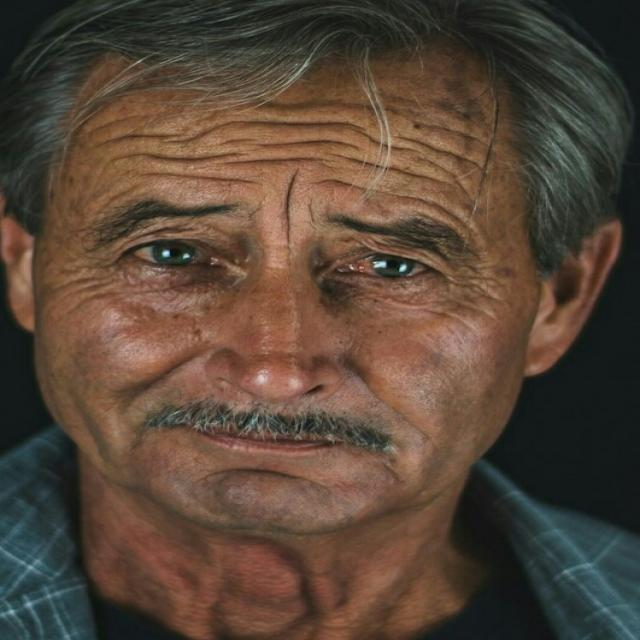front: (77, 178, 482, 481)
